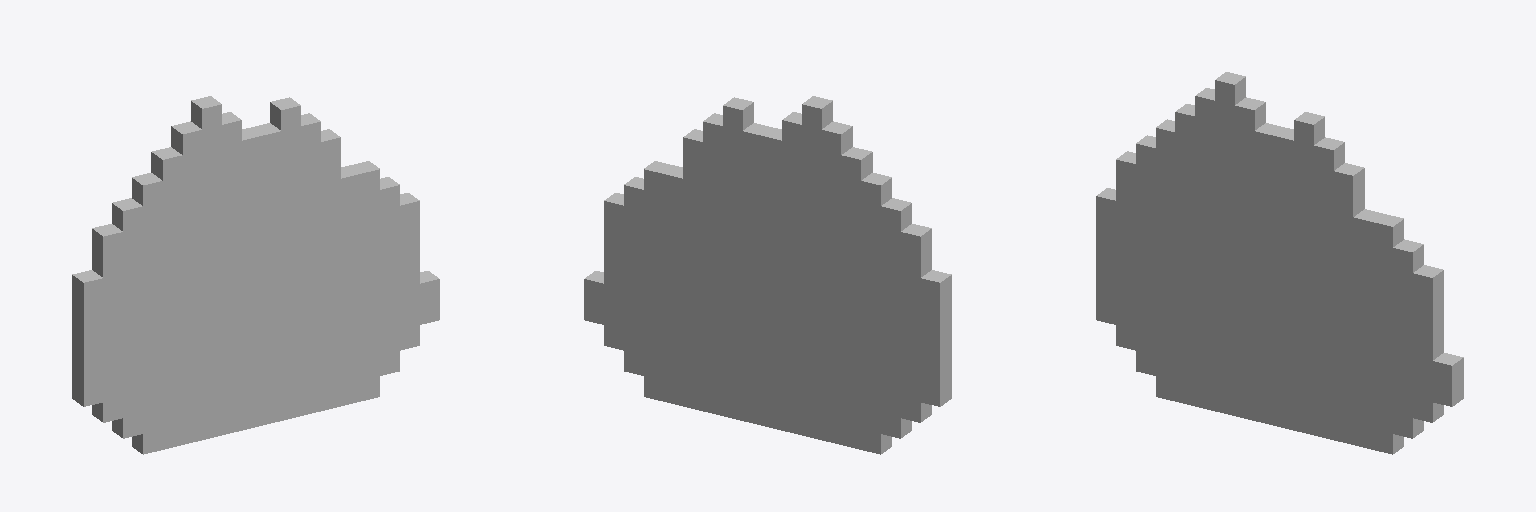
File: PigHead-0-PigHead.obj
3 views of the same model, side by side, from view 1: azimuth 30°, elevation 25°; view 2: azimuth 150°, elevation 25°; view 3: azimuth 330°, elevation 25° (orthographic).
Visible parts, largest first — view 1: PigHead; view 2: PigHead; view 3: PigHead.
Boxes of the visible parts, <box> form: PigHead: <box>72,96,439,454</box>; PigHead: <box>584,96,951,454</box>; PigHead: <box>1096,72,1463,454</box>.
Bounding box in the file's own units: 1.8 × 1.6 × 0.1.